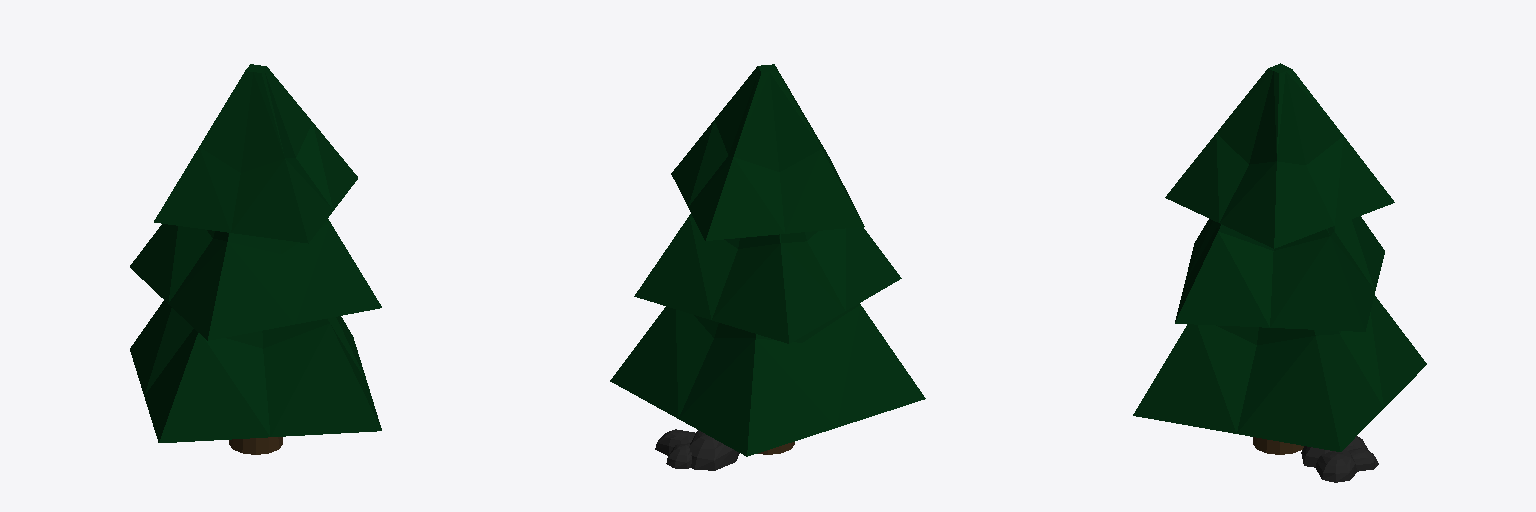
The model's file is Mount_Tree_02.obj.
3 renders of one model, left to right at view 1: azimuth 30°, elevation 25°; view 2: azimuth 150°, elevation 25°; view 3: azimuth 270°, elevation 25°, orthographic.
Visible parts, largest first — view 1: TREE, BASE; view 2: TREE, ROCK_07, ROCK_08; view 3: TREE, ROCK_08, BASE, ROCK_07.
Boxes of the visible parts, box(x1,y1,x2,y2) form: TREE: box(130, 64, 381, 442); BASE: box(229, 437, 282, 454); TREE: box(610, 64, 925, 456); ROCK_07: box(689, 430, 739, 470); ROCK_08: box(655, 429, 695, 455); TREE: box(1133, 63, 1426, 451); ROCK_08: box(1315, 450, 1356, 482); BASE: box(1253, 437, 1303, 454); ROCK_07: box(1301, 436, 1368, 467).
Bounding box in the file's own units: 3.7 × 5.18 × 3.7.